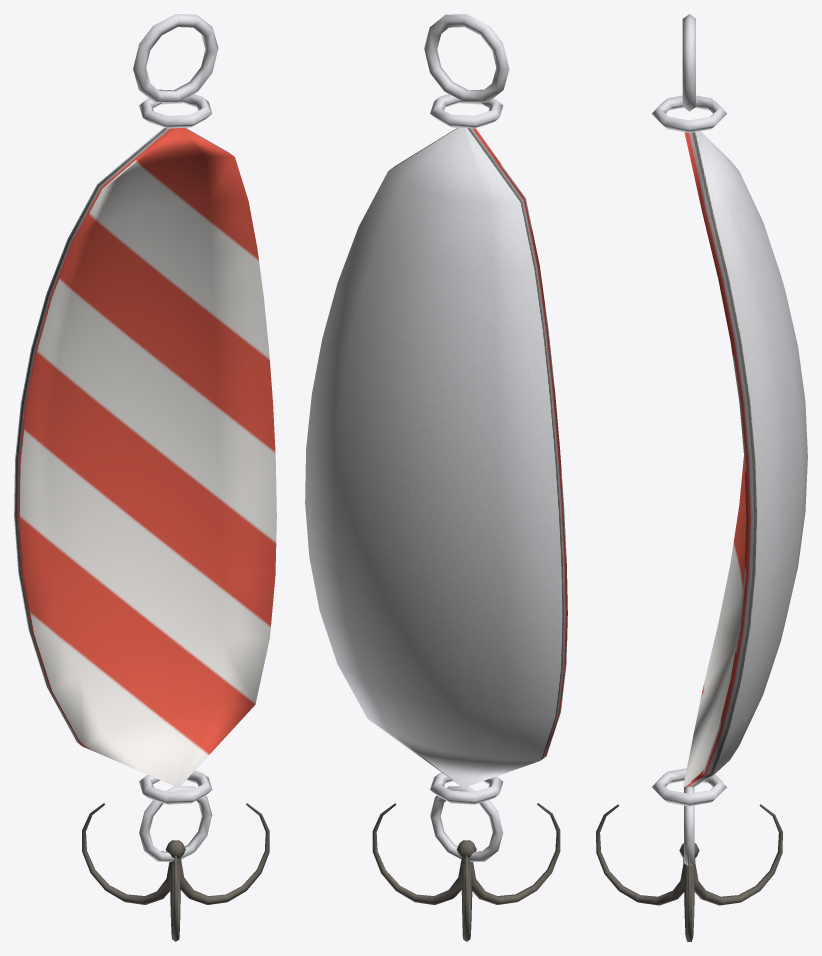
Rendered from lure_spoon.fbx.
The picture shows the model from 3 angles, left to right: view 1: azimuth 30°, elevation 25°; view 2: azimuth 150°, elevation 25°; view 3: azimuth 270°, elevation 25°; orthographic projection.
Visible parts, largest first — view 1: lure_spoon; view 2: lure_spoon; view 3: lure_spoon.
Part boxes in pixels (bbox=[...]): lure_spoon: bbox=[14, 14, 276, 941]; lure_spoon: bbox=[305, 14, 567, 941]; lure_spoon: bbox=[596, 14, 807, 941].
Size of the model in its own units: 2.09 by 7.06 by 1.51.
Materials: 1 (1 with a texture image).
